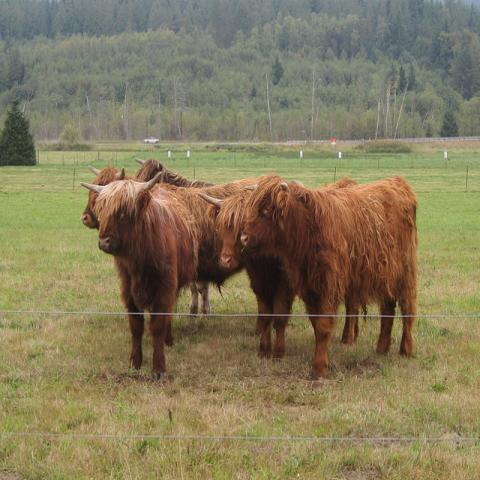truck: (144, 136, 160, 143)
